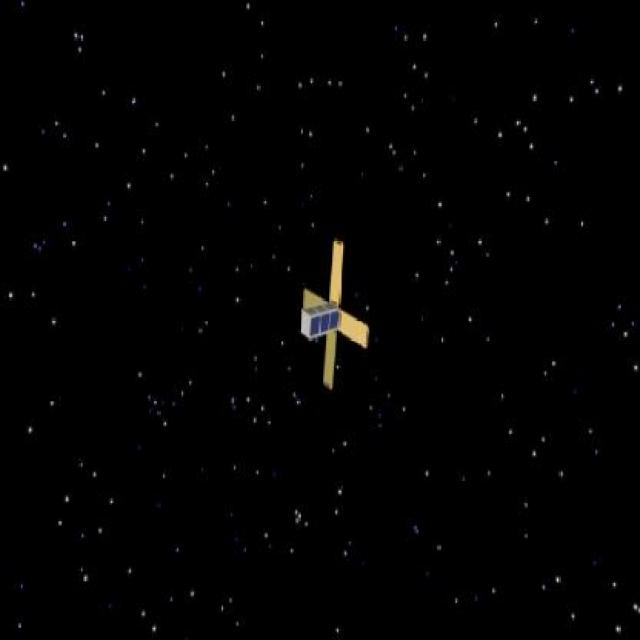medium_debris: (279, 240, 388, 390)
